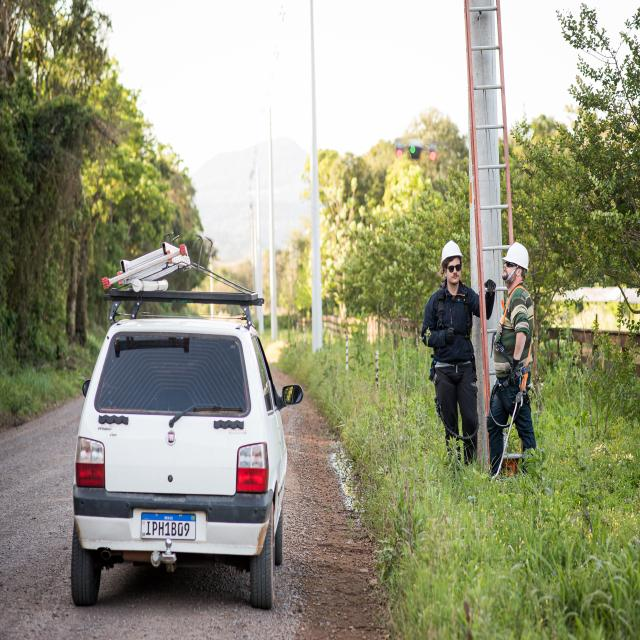capacete: (502, 242, 530, 271), (440, 240, 464, 262)
corda de vida: (430, 283, 478, 394)
luva: (506, 356, 521, 386), (484, 276, 497, 293)
